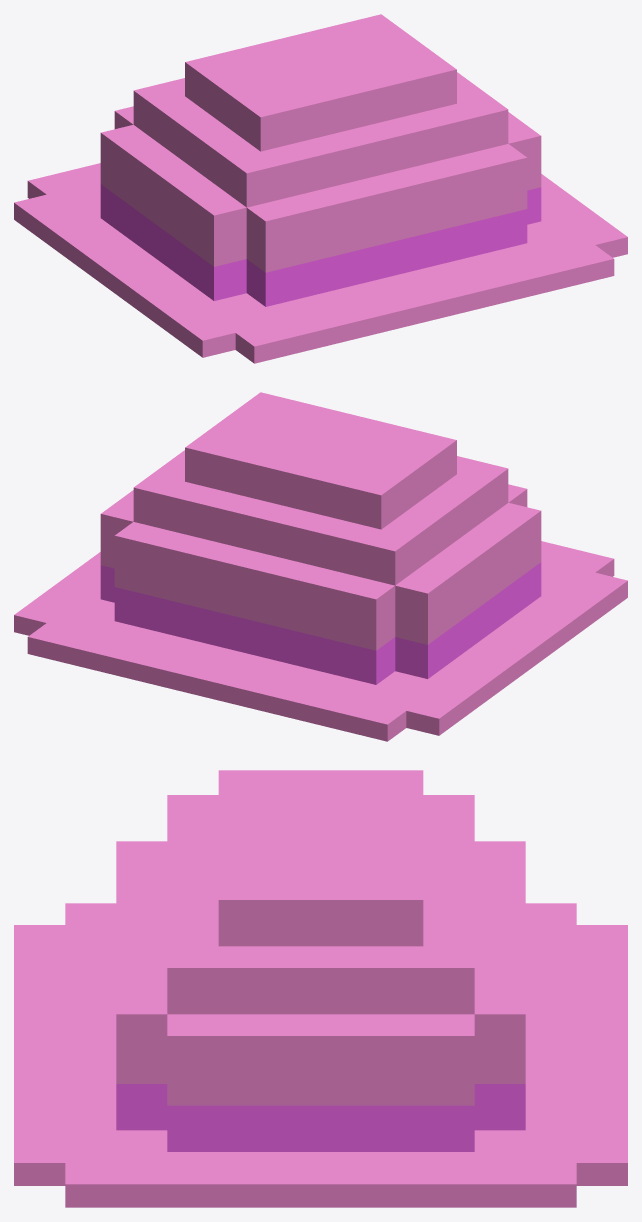
3 renders of one model, top to bottom at view 1: azimuth 30°, elevation 25°; view 2: azimuth 150°, elevation 25°; view 3: azimuth 270°, elevation 25°, orthographic. The views are drawn at different scales.
Visible parts, largest first — view 1: 97; view 2: 97; view 3: 97.
Part boxes in pixels (x1=…): 97: x1=14, y1=14, x2=627, y2=363; 97: x1=14, y1=392, x2=627, y2=741; 97: x1=14, y1=770, x2=627, y2=1207.
Bounding box in the file's own units: 2.6 × 1 × 2.4.
1 material, 1 textured.
